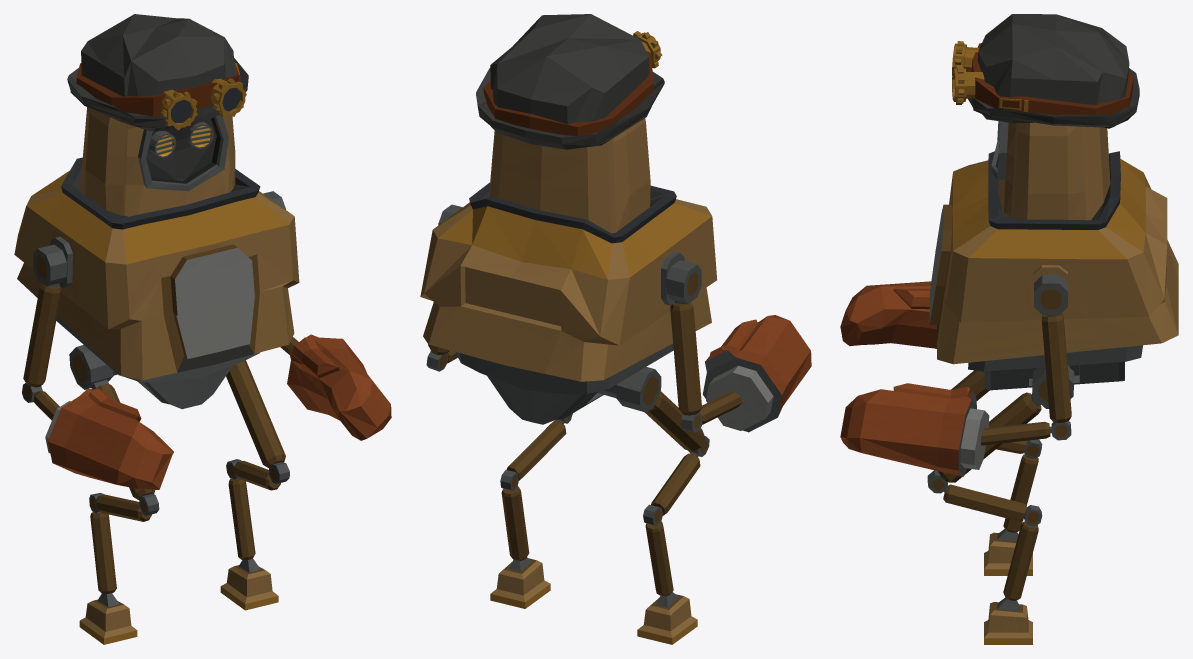
File: inimigo melee v2.fbx
3 views of the same model, side by side, from view 1: azimuth 30°, elevation 25°; view 2: azimuth 150°, elevation 25°; view 3: azimuth 270°, elevation 25° (orthographic). The views are drawn at different scales.
Parts seen in each view (by area): view 1: polySurface80; view 2: polySurface80; view 3: polySurface80.
Boxes of the visible parts, x1,y1,x2,y2 form: polySurface80: [14, 14, 391, 644]; polySurface80: [420, 14, 811, 644]; polySurface80: [840, 14, 1178, 644].
Bounding box in the file's own units: 3.67 × 6.41 × 3.4.
2 materials, 2 textured.
